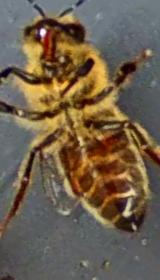varroa_mite: (96, 128, 128, 155), (64, 168, 86, 202)
